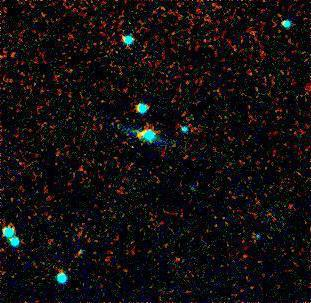star: (128, 119, 158, 149)
